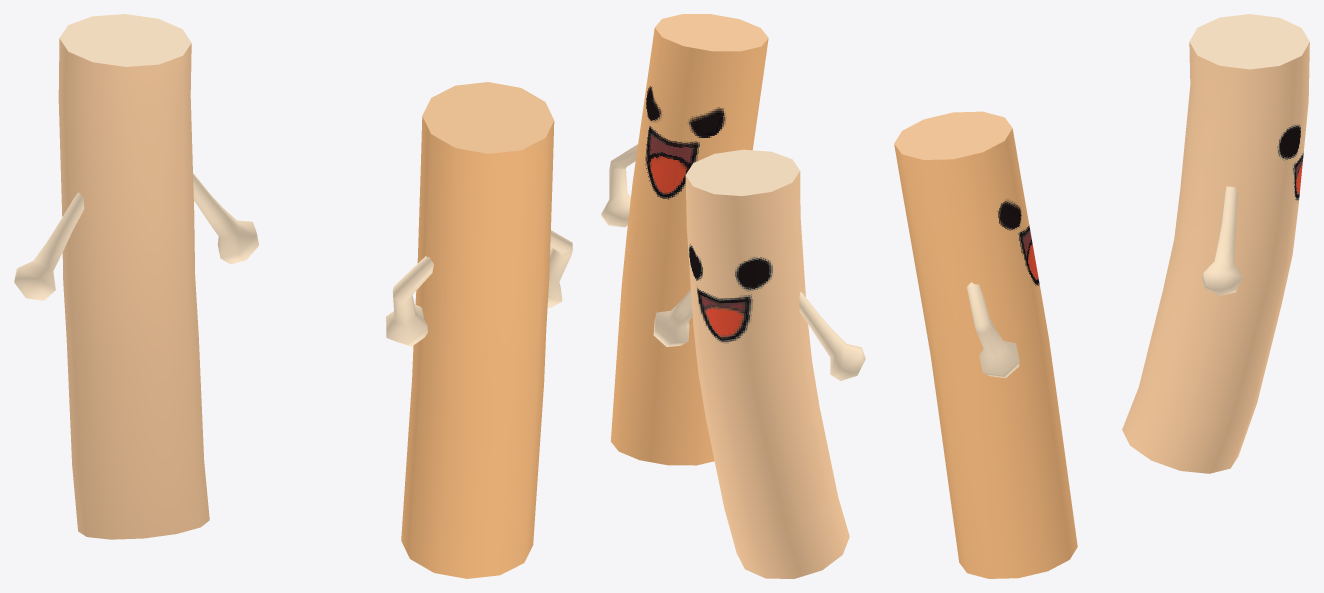
The model's file is ps2_save-icons_taikowakuwaku.glb.
3 views of the same model, side by side, from view 1: azimuth 30°, elevation 25°; view 2: azimuth 150°, elevation 25°; view 3: azimuth 270°, elevation 25° (orthographic). The views are drawn at different scales.
Parts seen in each view (by area): view 1: taiko.ico; view 2: taiko.ico; view 3: taiko.ico.
Part boxes in pixels (bbox=[...]): taiko.ico: bbox=[14, 14, 572, 578]; taiko.ico: bbox=[601, 14, 865, 578]; taiko.ico: bbox=[894, 14, 1309, 578].
Bounding box in the file's own units: 3.71 × 3.95 × 3.47.
Materials: 1 (1 with a texture image).
